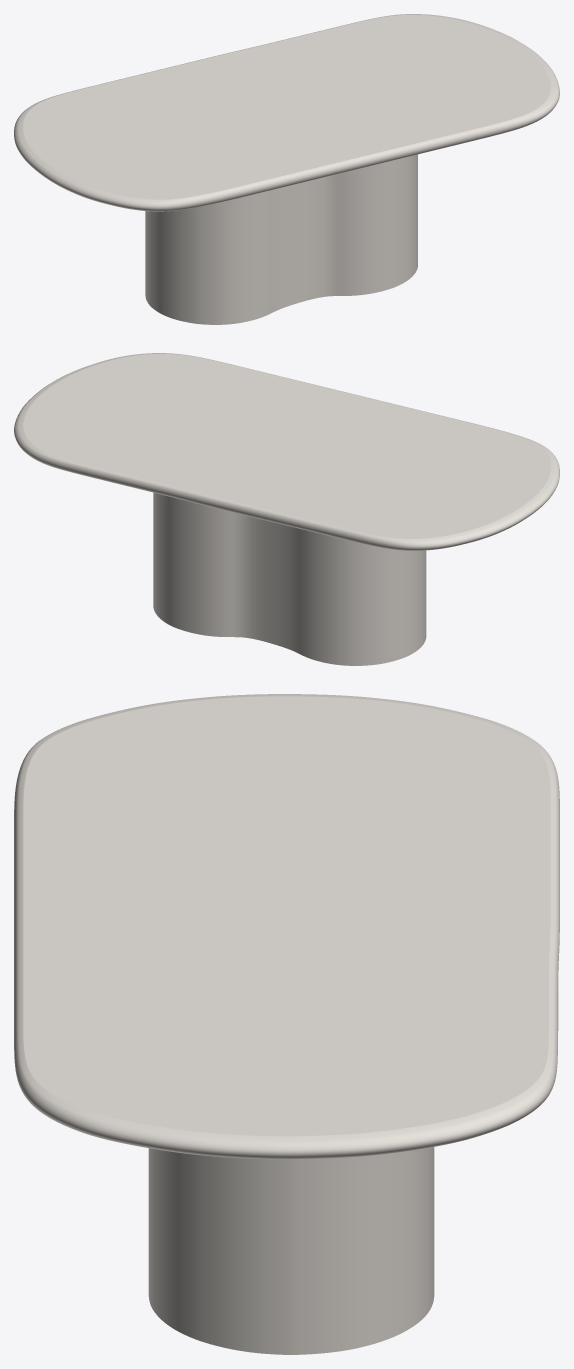
Rendered from pearlwhite_oval_round_riverwave.glb.
3 renders of one model, top to bottom at view 1: azimuth 30°, elevation 25°; view 2: azimuth 150°, elevation 25°; view 3: azimuth 270°, elevation 25°, orthographic. The views are drawn at different scales.
Visible parts, largest first — view 1: round_oval, riverwave; view 2: round_oval, riverwave; view 3: round_oval, riverwave.
Part boxes in pixels (x1,y1,x2,y2): round_oval: (14, 14, 559, 211); riverwave: (145, 154, 417, 324); round_oval: (14, 353, 559, 550); riverwave: (153, 492, 426, 665); round_oval: (14, 694, 559, 1159); riverwave: (148, 1147, 434, 1354).
Bounding box in the file's own units: 7.5 × 2.5 × 3.8.
1 material, 1 textured.
